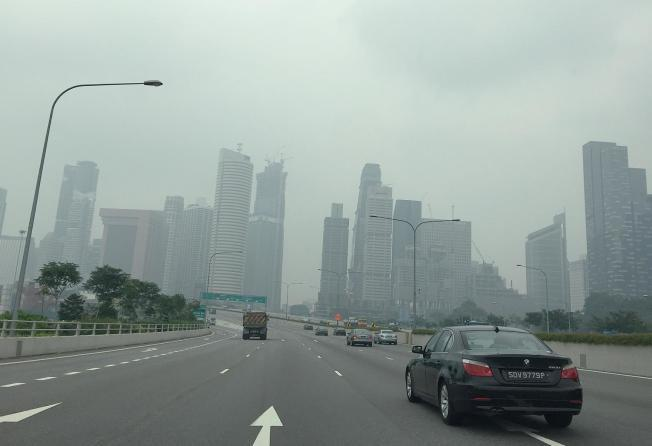bus: (241, 310, 269, 340)
car: (404, 319, 584, 429), (346, 329, 374, 347), (373, 329, 397, 345), (315, 325, 328, 336), (332, 326, 346, 336), (304, 323, 314, 331)
